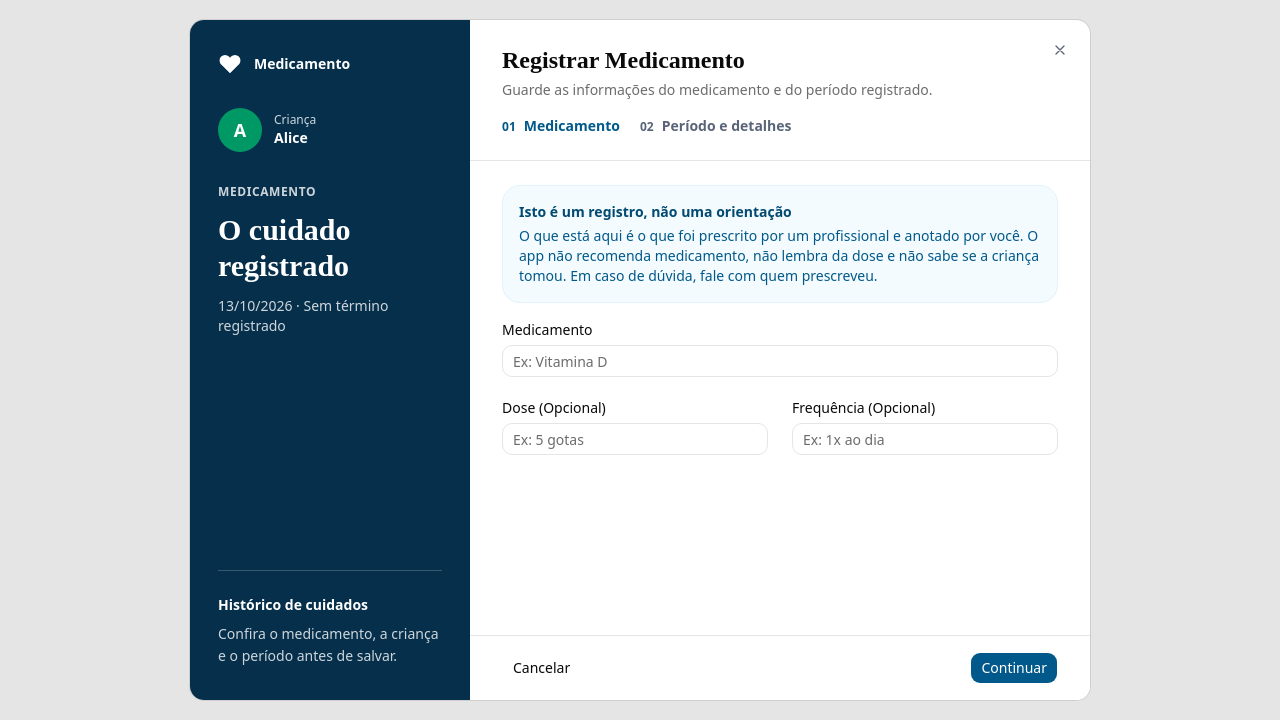
Scenario: preserves the draft after a save failure and asks before closing
The width and height of the screenshot is (1280, 720).
In the field labelled "Medicamento": (780, 361) [502,345,1058,377], type "Registro de teste"
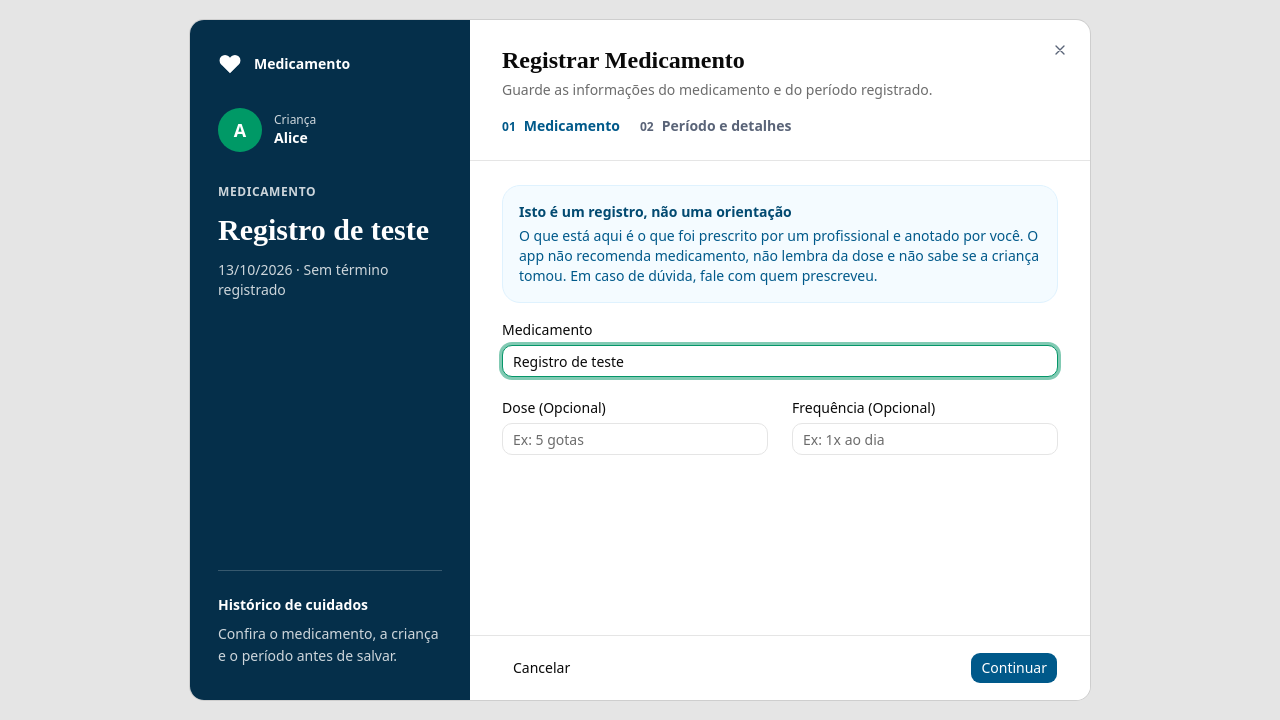
Click the button "Continuar": (1014, 668) [970,652,1058,684]
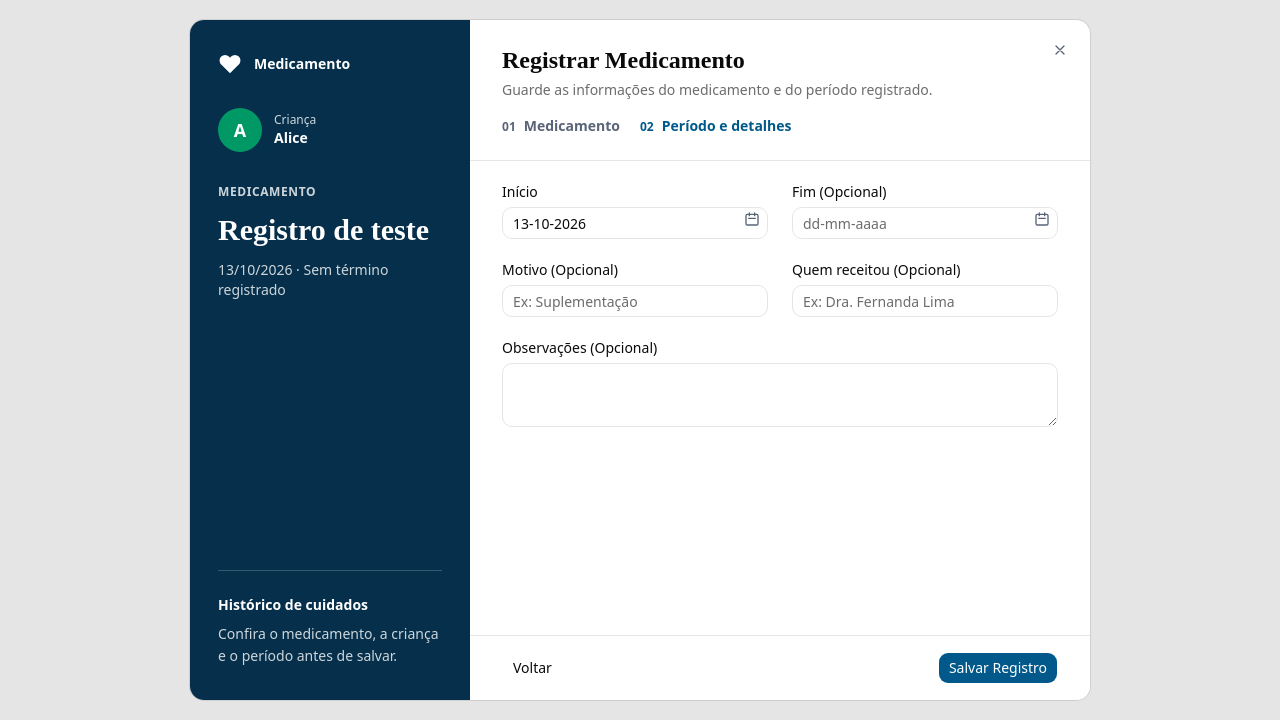
Click the button "Salvar Registro": (998, 668) [938,652,1058,684]
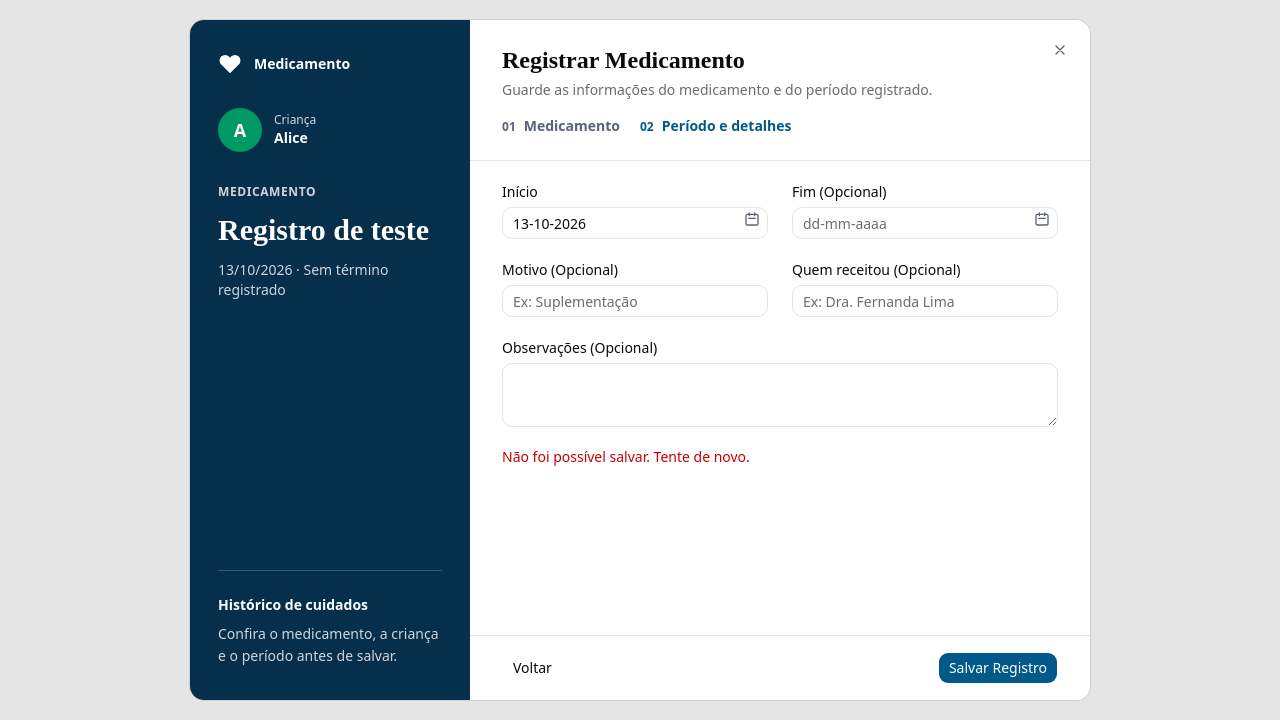
Now the message "Não foi possível salvar. Tente de novo." is shown, box [502,447,750,466]
Click the button "Voltar": (532, 668) [502,652,563,684]
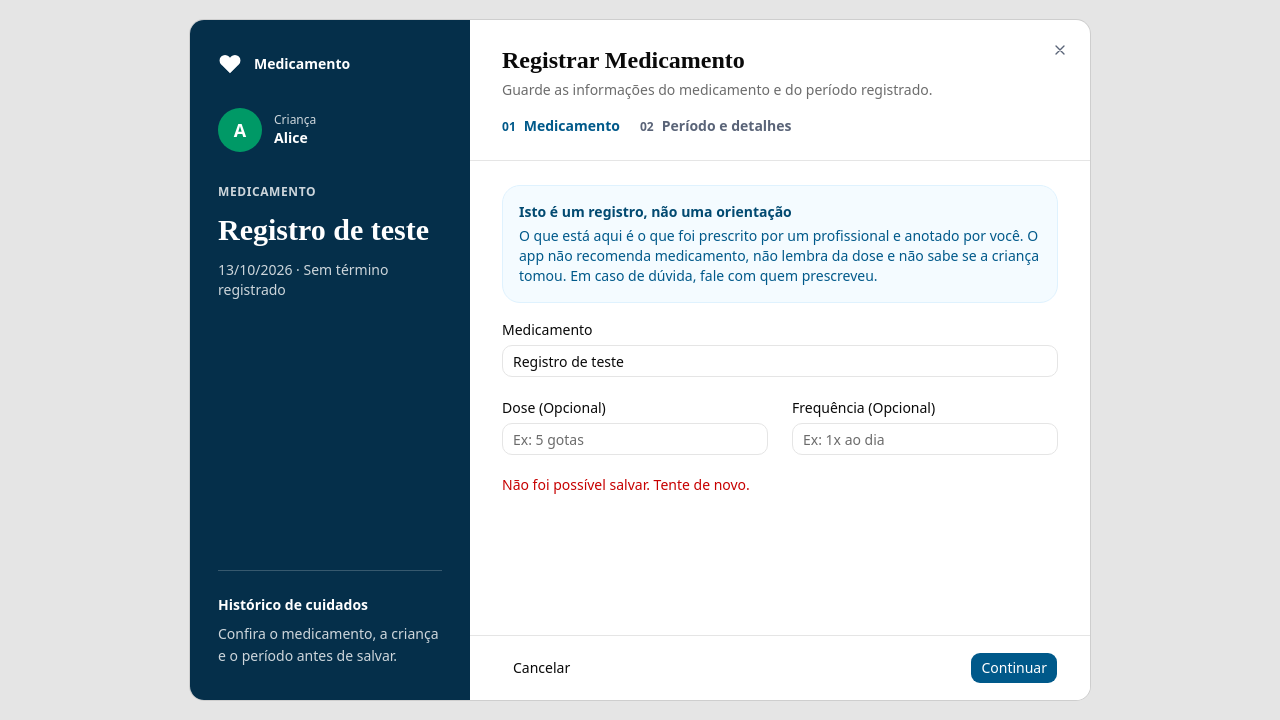
Now the field labelled "Medicamento" holds "Registro de teste", box [502,345,1058,377]
Click the button "Cancelar": (542, 668) [502,652,581,684]
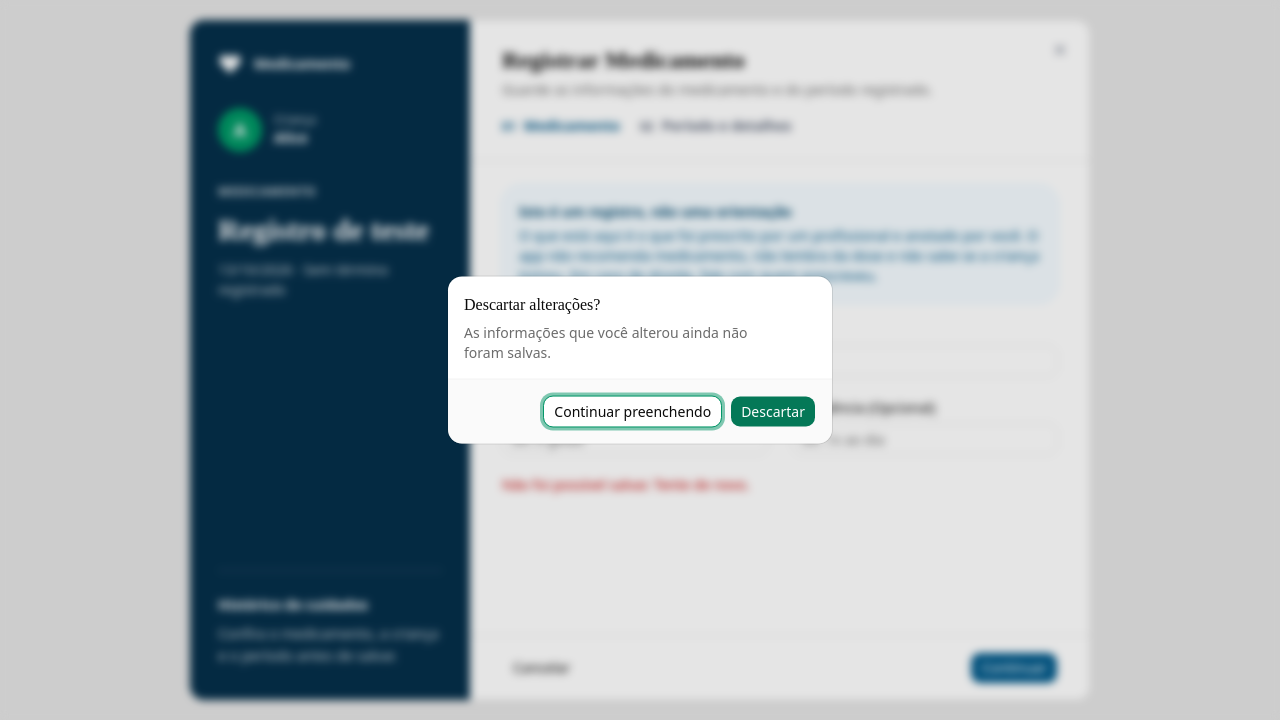
Now the dialog that starts with "Descartar alterações?" is shown, box [448,276,832,444]
